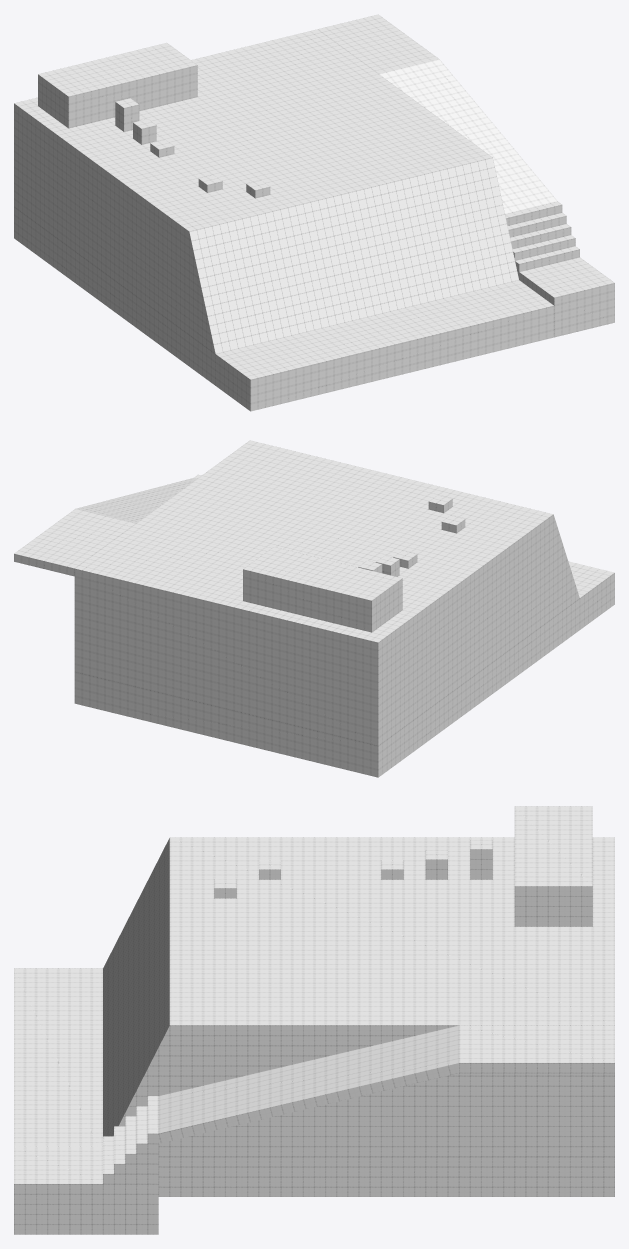
Rendered from playground.glb.
The picture shows the model from 3 angles, top to bottom: view 1: azimuth 30°, elevation 25°; view 2: azimuth 150°, elevation 25°; view 3: azimuth 270°, elevation 25°; orthographic projection. The views are drawn at different scales.
Parts seen in each view (by area): view 1: Floor, Cube.001, Wall, Cube.002; view 2: Floor, Wall, Cube.001; view 3: Floor, Cube.001, Wall, Cube.002, Cube.003.
Part boxes in pixels (box(x1,y1,x2,y2)): Floor: box(14, 29, 554, 411); Cube.001: box(318, 14, 614, 337); Wall: box(38, 43, 197, 128); Cube.002: box(115, 98, 139, 131); Floor: box(74, 440, 614, 777); Wall: box(243, 547, 402, 632); Cube.001: box(14, 474, 201, 576); Floor: box(14, 837, 614, 1196); Cube.001: box(14, 1025, 614, 1234); Wall: box(514, 806, 592, 926); Cube.002: box(470, 840, 492, 879); Cube.003: box(425, 850, 447, 879).
Bounding box in the file's own units: 48 × 21 × 54.
Materials: 1 (1 with a texture image).
